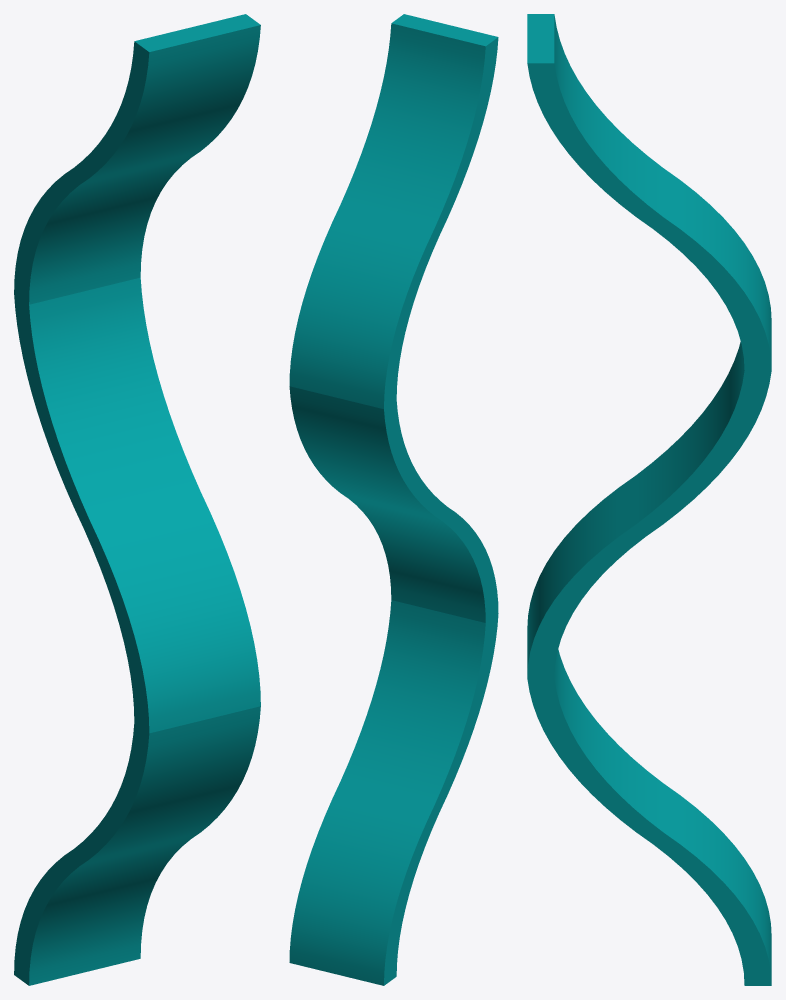
File: seaweed_small.fbx
3 renders of one model, left to right at view 1: azimuth 30°, elevation 25°; view 2: azimuth 150°, elevation 25°; view 3: azimuth 270°, elevation 25°, orthographic. The views are drawn at different scales.
Visible parts, largest first — view 1: mergedBlocks; view 2: mergedBlocks; view 3: mergedBlocks.
Part boxes in pixels (x1=…): mergedBlocks: x1=14, y1=14, x2=260, y2=985; mergedBlocks: x1=289, y1=14, x2=498, y2=985; mergedBlocks: x1=527, y1=14, x2=771, y2=985.
Size of the model in its own units: 1.2 by 10.5 by 2.52.
